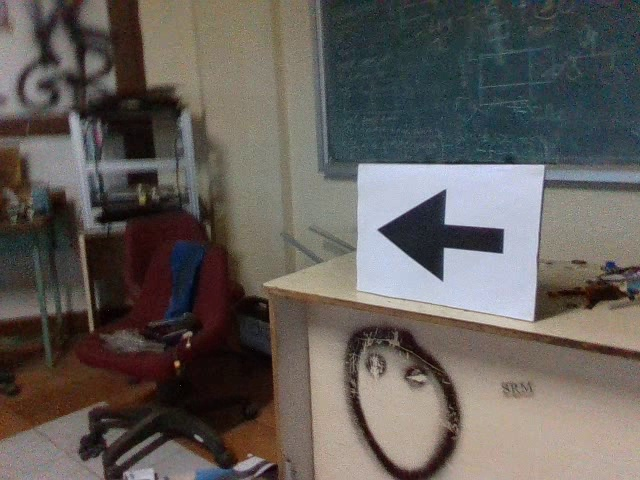Left: (370, 183, 509, 287)
